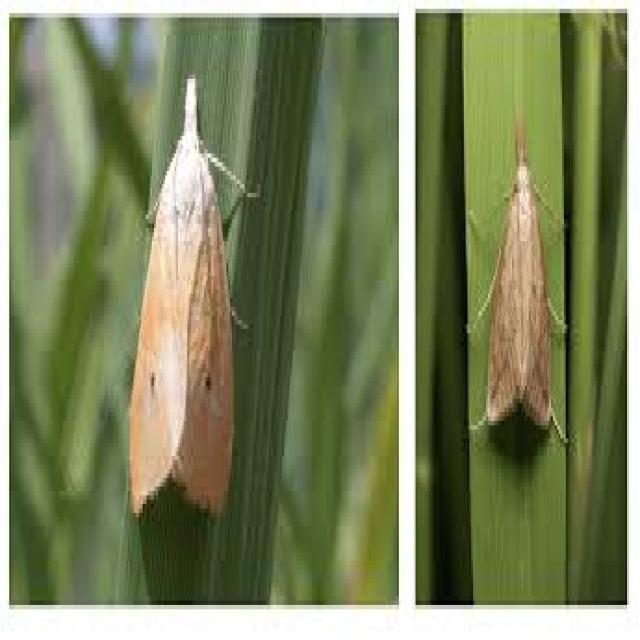yellow-stem-borer: (111, 56, 299, 542), (461, 107, 601, 472)
